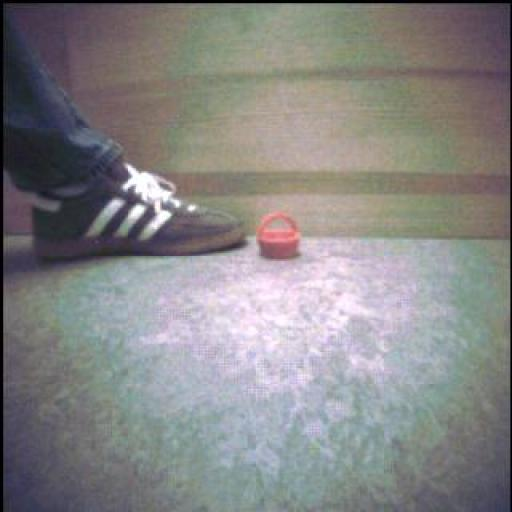Bucket: (257, 212, 302, 260)
